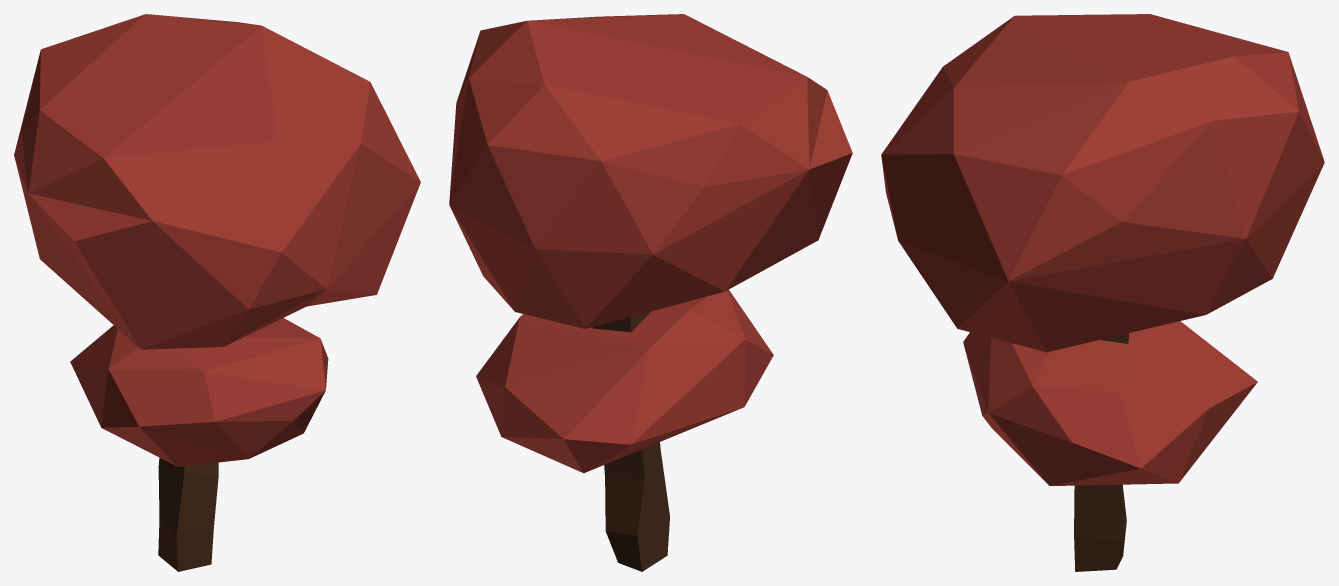
Rendered from Tree_52_Red.fbx.
3 renders of one model, left to right at view 1: azimuth 30°, elevation 25°; view 2: azimuth 150°, elevation 25°; view 3: azimuth 270°, elevation 25°, orthographic. The views are drawn at different scales.
Visible parts, largest first — view 1: Tree_52_Red_Part_1, Tree_52_Red_Part_2; view 2: Tree_52_Red_Part_1, Tree_52_Red_Part_2; view 3: Tree_52_Red_Part_1, Tree_52_Red_Part_2.
Boxes of the visible parts, x1=… form: Tree_52_Red_Part_1: x1=14, y1=14, x2=420, y2=466; Tree_52_Red_Part_2: x1=158, y1=457, x2=218, y2=571; Tree_52_Red_Part_1: x1=449, y1=14, x2=852, y2=473; Tree_52_Red_Part_2: x1=592, y1=311, x2=669, y2=571; Tree_52_Red_Part_1: x1=881, y1=14, x2=1324, y2=485; Tree_52_Red_Part_2: x1=1074, y1=333, x2=1129, y2=571.
Bounding box in the file's own units: 447 × 607 × 461.
